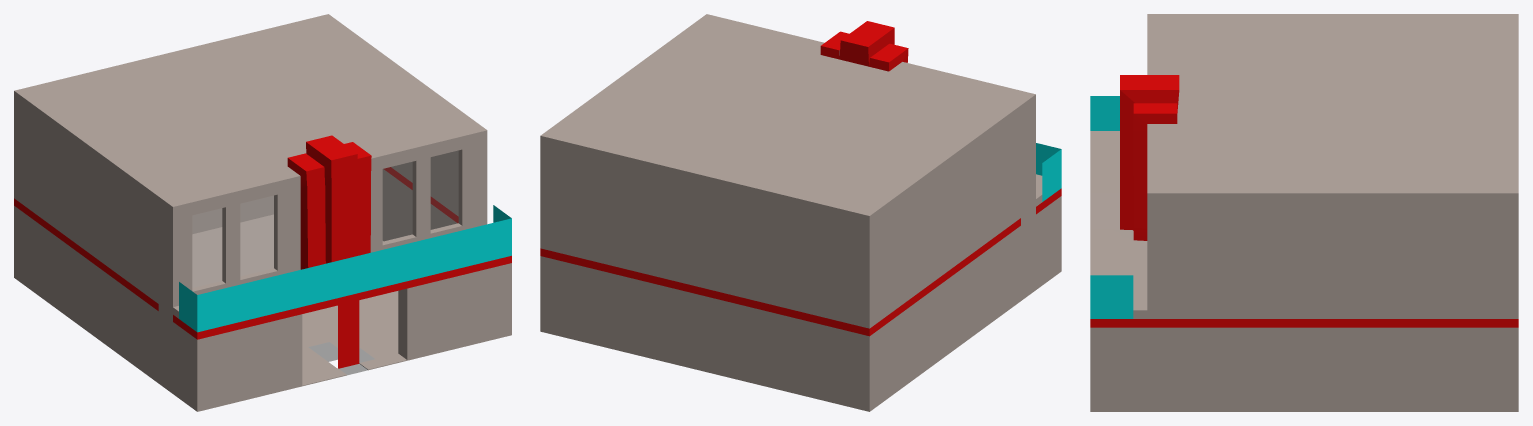
File: Building_Cinema_Mod.fbx
3 renders of one model, left to right at view 1: azimuth 30°, elevation 25°; view 2: azimuth 150°, elevation 25°; view 3: azimuth 270°, elevation 25°, orthographic. The views are drawn at different scales.
Visible parts, largest first — view 1: Cinama; view 2: Cinama; view 3: Cinama.
Boxes of the visible parts, bbox=[...] form: Cinama: bbox=[14, 14, 511, 411]; Cinama: bbox=[540, 14, 1061, 411]; Cinama: bbox=[1090, 14, 1518, 411].
Bounding box in the file's own units: 7.88 × 4.94 × 7.95.
